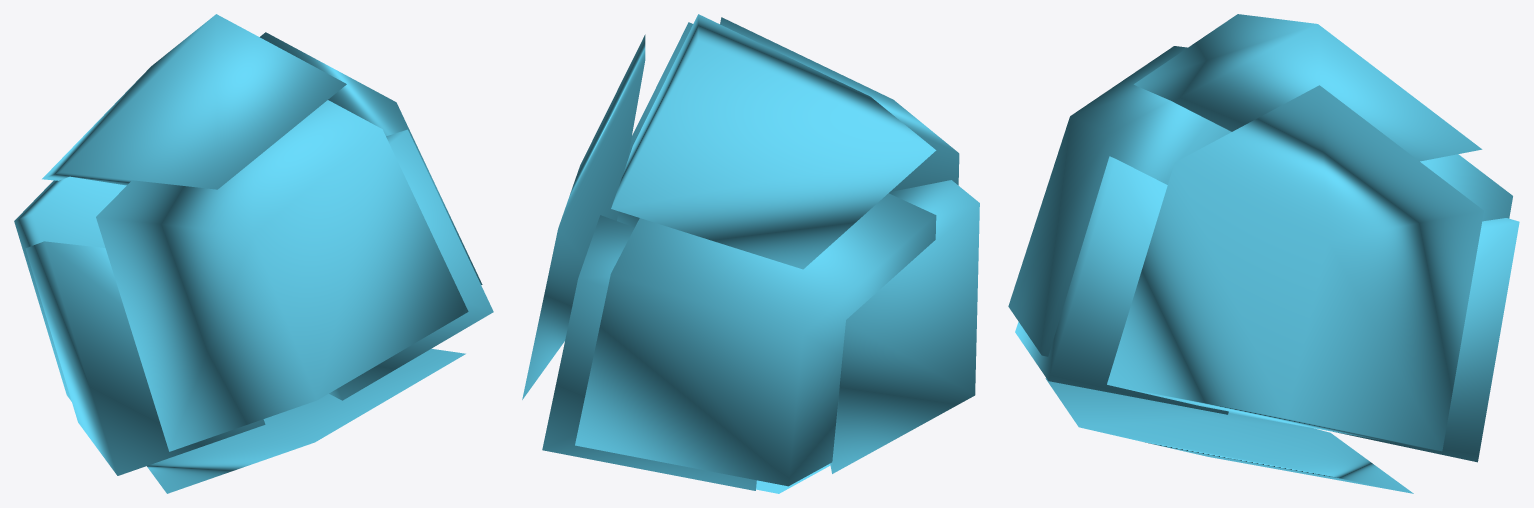
The model's file is tesseract.glb.
The picture shows the model from 3 angles, left to right: view 1: azimuth 30°, elevation 25°; view 2: azimuth 150°, elevation 25°; view 3: azimuth 270°, elevation 25°; orthographic projection. The views are drawn at different scales.
Parts seen in each view (by area): view 1: Projected tesseract; view 2: Projected tesseract; view 3: Projected tesseract.
Part boxes in pixels (left/top/right/bottom): Projected tesseract: left=14, top=14, right=493, bottom=493; Projected tesseract: left=522, top=14, right=979, bottom=493; Projected tesseract: left=1008, top=14, right=1519, bottom=493.
Size of the model in its own units: 2.42 by 2.42 by 2.47.
